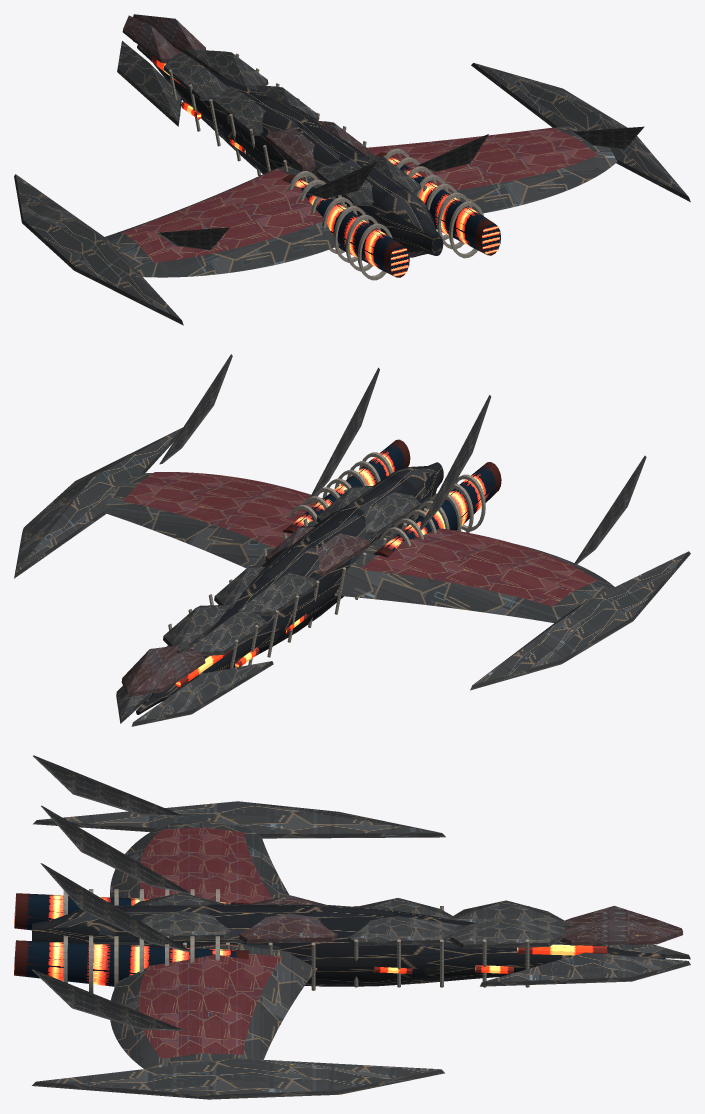
File: dynasty_courier_recreated.glb
The picture shows the model from 3 angles, top to bottom: view 1: azimuth 30°, elevation 25°; view 2: azimuth 150°, elevation 25°; view 3: azimuth 270°, elevation 25°; orthographic projection. The views are drawn at different scales.
Visible parts, largest first — view 1: dynasty_courier_recreated; view 2: dynasty_courier_recreated; view 3: dynasty_courier_recreated.
Boxes of the visible parts, left/top/right/bottom form: dynasty_courier_recreated: left=14, top=14, right=690, bottom=325; dynasty_courier_recreated: left=14, top=354, right=690, bottom=726; dynasty_courier_recreated: left=14, top=755, right=690, bottom=1099.
Size of the model in its own units: 1.42 by 0.3416 by 1.41.
1 material, 1 textured.
